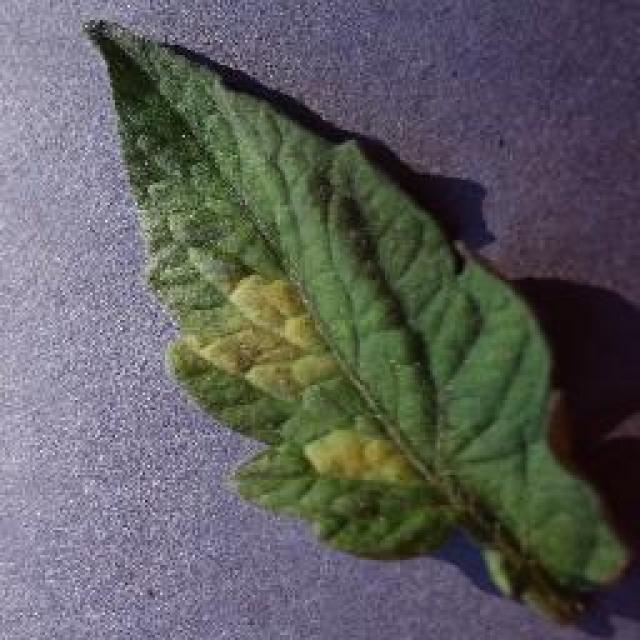Tomato mold leaf: (80, 20, 632, 592)
